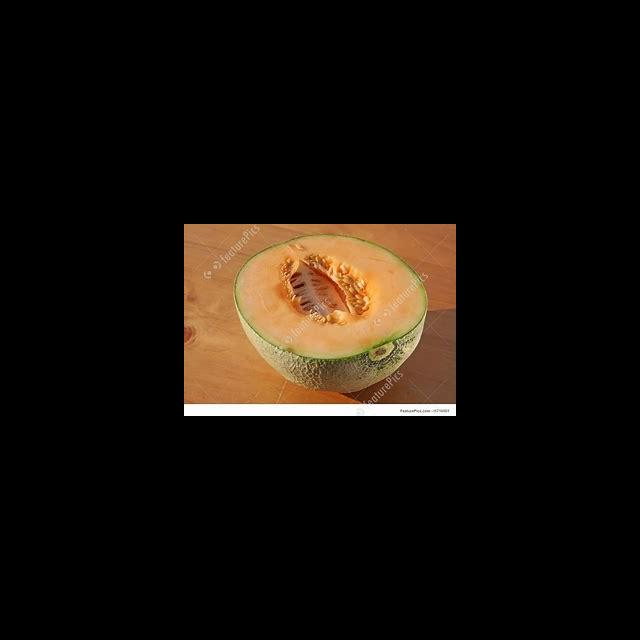Hami Melon: (234, 234, 429, 393)
